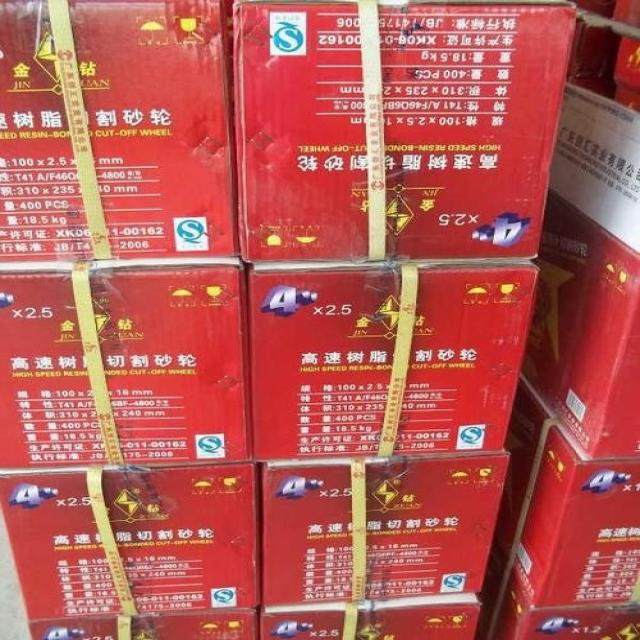box: (228, 1, 583, 263), (0, 1, 242, 265), (249, 261, 540, 463), (0, 258, 251, 473), (516, 69, 639, 458), (0, 459, 259, 620), (259, 452, 508, 608), (492, 373, 639, 608), (476, 558, 639, 639), (260, 593, 481, 639), (27, 608, 257, 638)
